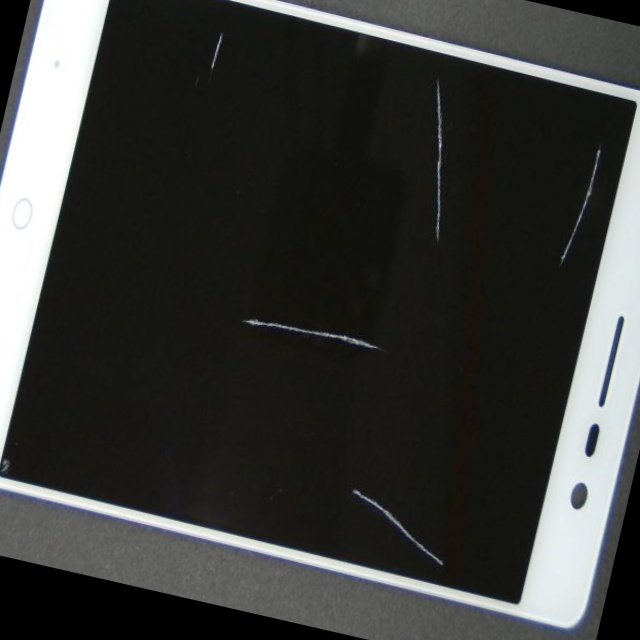scratch: (236, 279, 640, 640), (230, 126, 577, 536), (196, 118, 640, 397), (294, 114, 640, 298)
